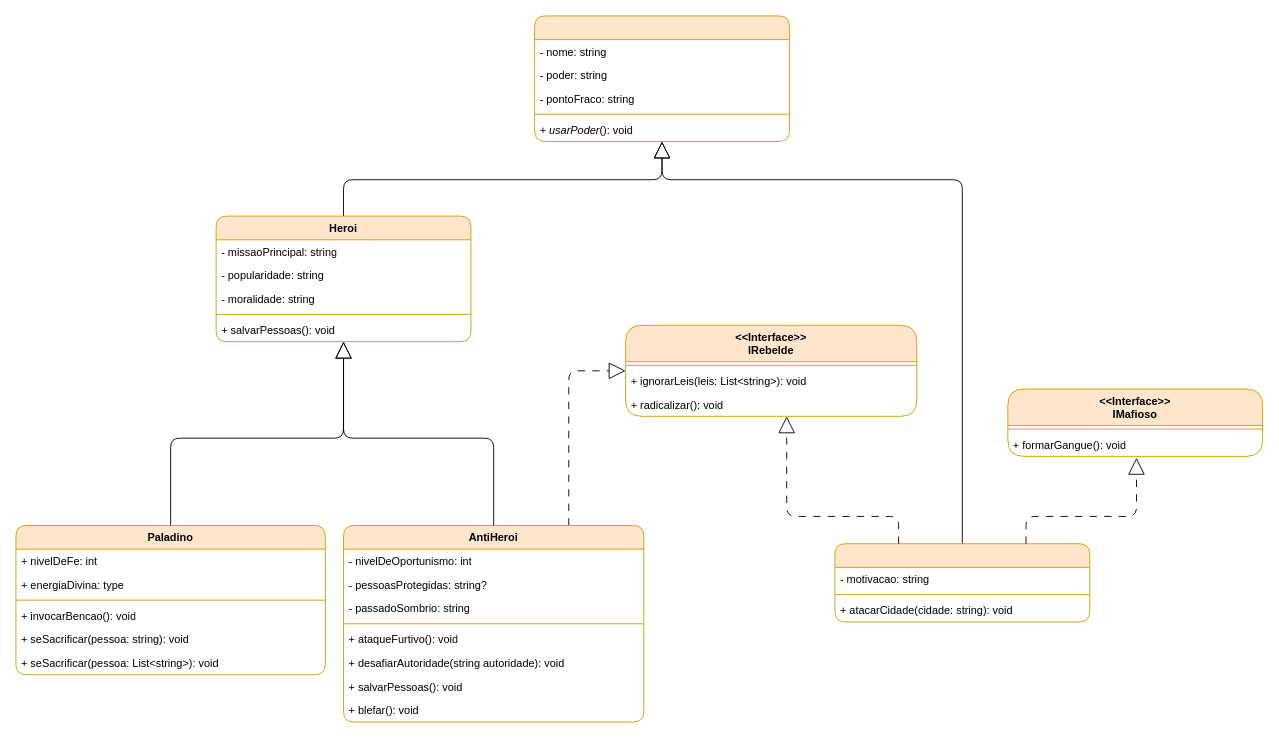
Image size: 1279x741. Some labels were removed from this diagram. The box of each missing label's shape, as (x1, y1, x2, y2) in pixels:
MetaHumano: (534, 15, 789, 142)
Vilao: (834, 543, 1090, 622)
